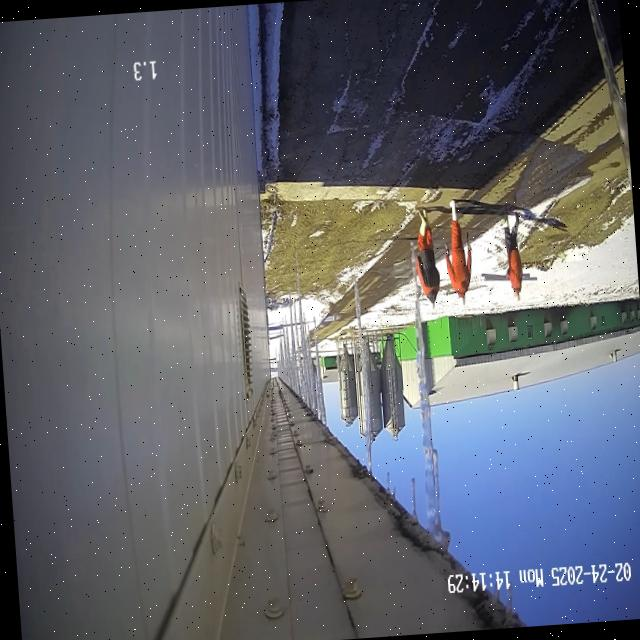Red uniform: (445, 200, 470, 303), (417, 210, 439, 304), (503, 212, 522, 300)
